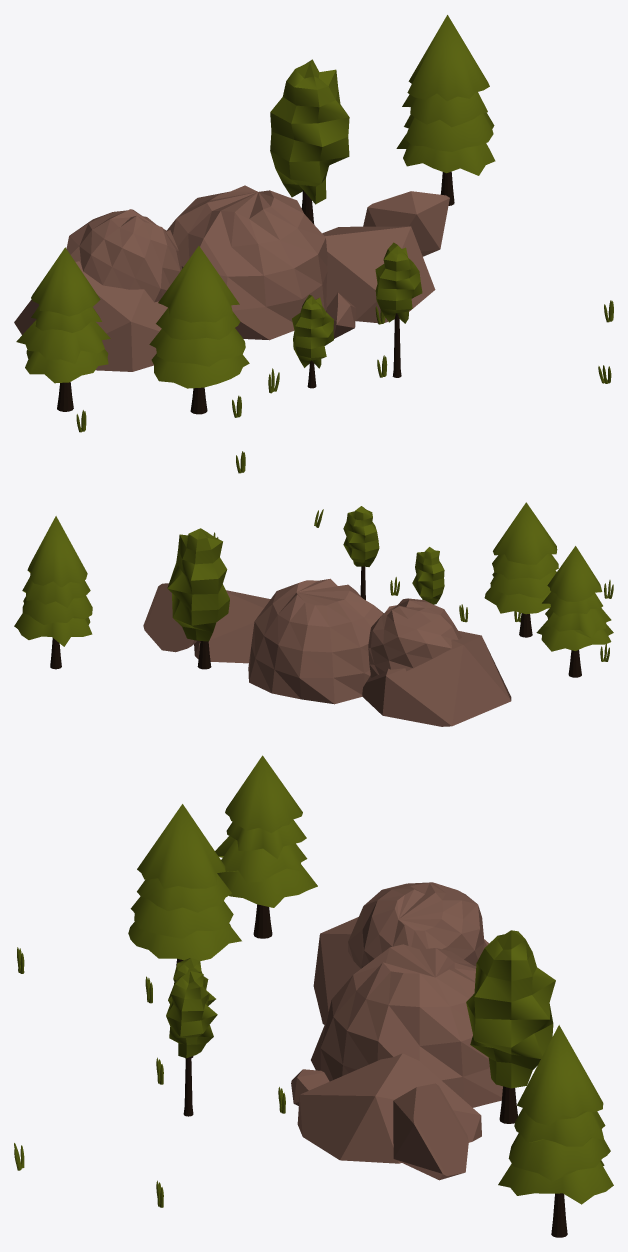
The model's file is trees.obj.
3 renders of one model, top to bottom at view 1: azimuth 30°, elevation 25°; view 2: azimuth 150°, elevation 25°; view 3: azimuth 270°, elevation 25°, orthographic. The views are drawn at different scales.
Visible parts, largest first — view 1: pSphere1, pCone14, pCone13, pCone21, pCone15, pSphere2, pSolid3, pSolid1, pSolid2, pCone23, pCone22, pSolid4; view 2: pSphere1, pSolid1, pCone14, pCone13, pCone21, pCone15, pSphere2, pSolid3, pSolid2, pCone23, pCone22; view 3: pSphere1, pCone14, pCone13, pCone21, pSolid3, pCone15, pSphere2, pSolid2, pCone23, pSolid1, pSolid4.
Part boxes in pixels (<box>): pSphere1: <box>167,185,327,340</box>; pCone14: <box>396,15,495,205</box>; pCone13: <box>149,246,249,414</box>; pCone21: <box>270,59,349,224</box>; pCone15: <box>16,247,110,411</box>; pSphere2: <box>66,209,181,302</box>; pSolid3: <box>322,226,435,323</box>; pSolid1: <box>14,261,167,371</box>; pSolid2: <box>363,191,449,256</box>; pCone23: <box>375,242,422,377</box>; pCone22: <box>292,294,333,388</box>; pSolid4: <box>326,292,355,338</box>; pSphere1: <box>248,578,383,704</box>; pSolid1: <box>362,631,511,726</box>; pCone14: <box>14,516,92,669</box>; pCone13: <box>484,502,558,637</box>; pCone21: <box>167,528,229,669</box>; pCone15: <box>536,546,613,677</box>; pSphere2: <box>368,598,461,677</box>; pSolid3: <box>194,590,270,663</box>; pSolid2: <box>143,583,196,652</box>; pCone23: <box>343,506,379,599</box>; pCone22: <box>412,547,444,604</box>; pSphere1: <box>311,944,502,1107</box>; pCone14: <box>498,1025,613,1237</box>; pCone13: <box>128,804,241,983</box>; pCone21: <box>466,930,555,1123</box>; pSolid3: <box>297,1053,481,1163</box>; pCone15: <box>215,755,317,938</box>; pSphere2: <box>348,882,486,968</box>; pSolid2: <box>393,1083,468,1180</box>; pCone23: <box>166,971,217,1116</box>; pSolid1: <box>313,917,488,1024</box>; pSolid4: <box>291,1069,329,1105</box>.
Size of the model in its own units: 85.18 by 26.6 by 66.39.
